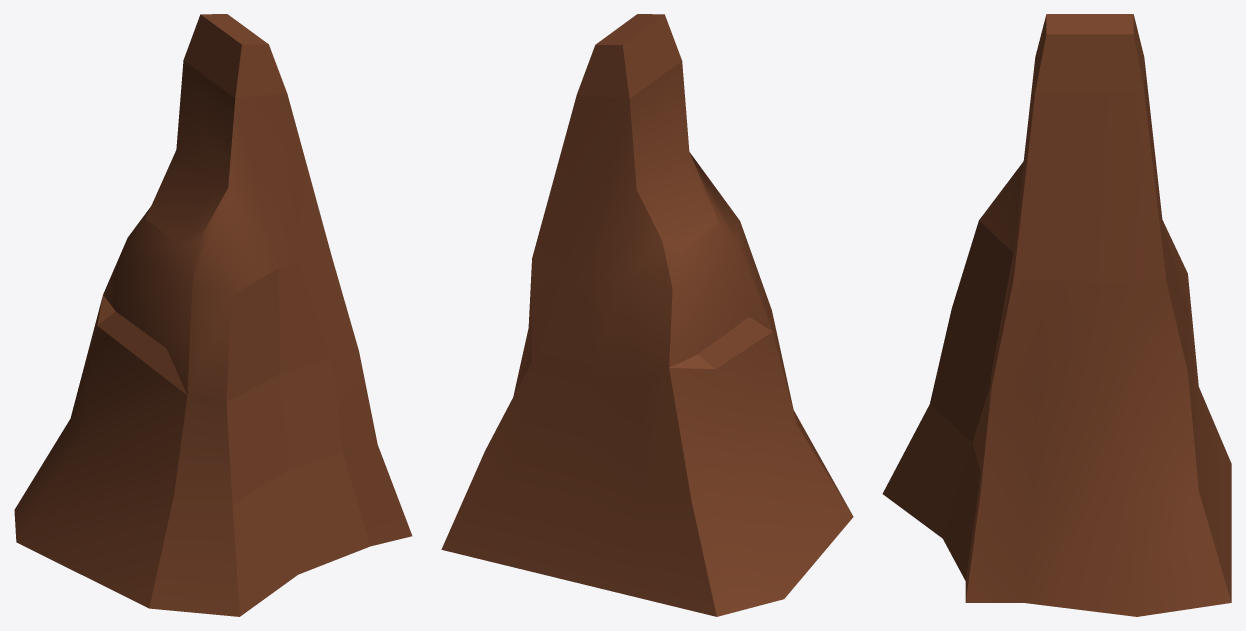
The model's file is Montaña4.FBX.
3 renders of one model, left to right at view 1: azimuth 30°, elevation 25°; view 2: azimuth 150°, elevation 25°; view 3: azimuth 270°, elevation 25°, orthographic. The views are drawn at different scales.
Visible parts, largest first — view 1: Box007; view 2: Box007; view 3: Box007.
Boxes of the visible parts, left/top/right/bottom form: Box007: left=14, top=14, right=412, bottom=616; Box007: left=441, top=14, right=853, bottom=616; Box007: left=882, top=14, right=1231, bottom=616.
Bounding box in the file's own units: 2379 × 3401 × 2065.
